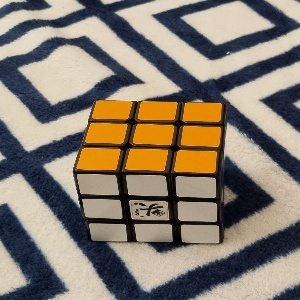cube: (73, 100, 226, 245)
